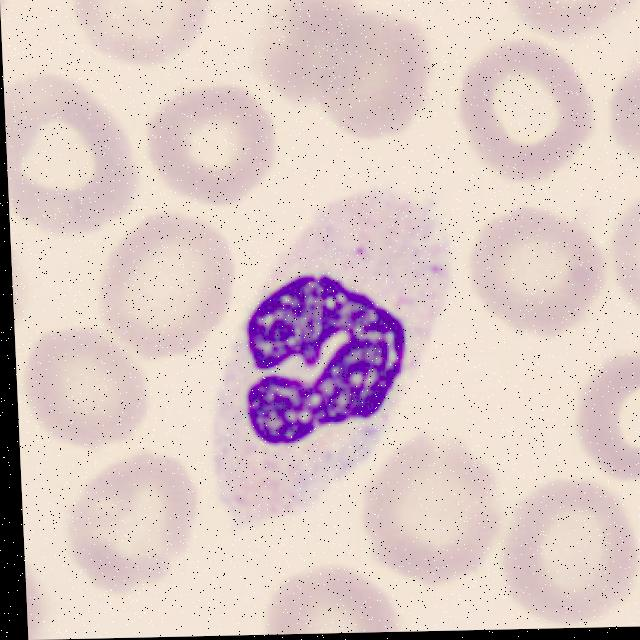neutrophil: (201, 182, 463, 527)
rbc: (3, 74, 138, 226), (503, 480, 637, 614), (97, 212, 223, 350), (64, 456, 194, 588), (374, 454, 501, 585), (145, 92, 280, 214), (456, 47, 585, 170), (473, 205, 607, 323), (28, 324, 150, 438), (315, 15, 419, 132), (251, 0, 351, 99), (267, 568, 403, 634), (576, 358, 640, 488), (69, 0, 207, 58), (501, 0, 640, 34), (603, 59, 640, 156), (614, 193, 640, 306), (25, 558, 44, 640), (632, 551, 640, 626)
